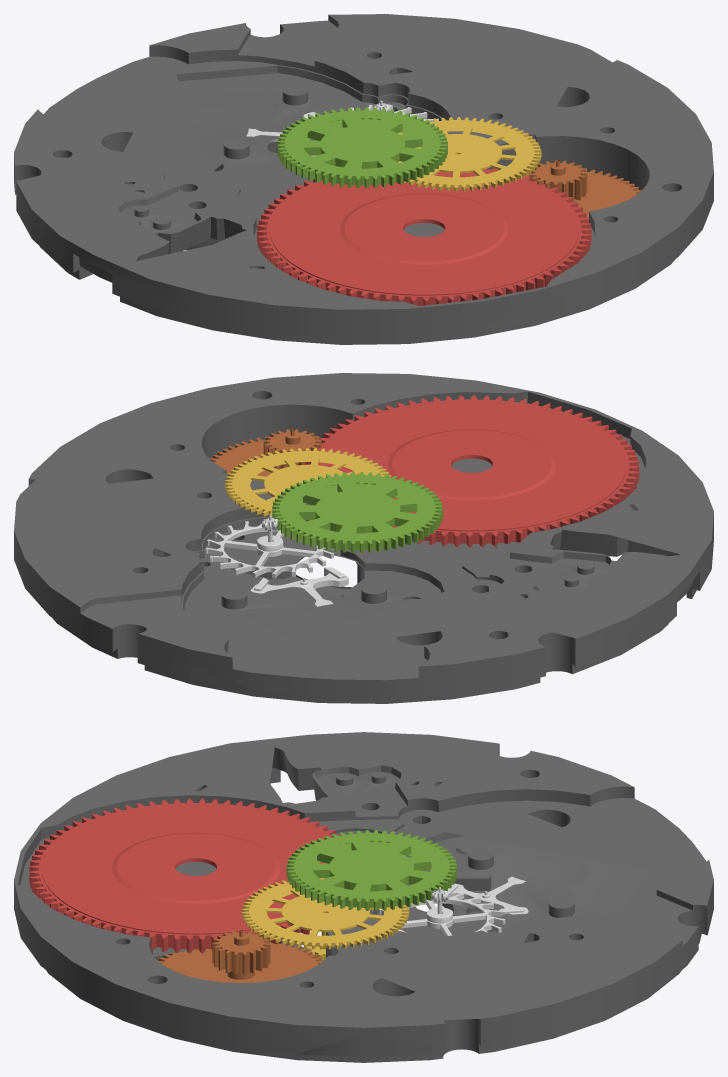
The model's file is uhrMuseum.fbx.
The picture shows the model from 3 angles, top to bottom: view 1: azimuth 30°, elevation 25°; view 2: azimuth 150°, elevation 25°; view 3: azimuth 270°, elevation 25°; orthographic projection.
Parts seen in each view (by area): view 1: MainPlate, Gear, Gear.004, Gear.006, Gear.003, Gear.005, Gear.002, Gear.001; view 2: MainPlate, Gear, Gear.004, Gear.006, Escape Wheel, Gear.003, Gear.005, Fork, Gear.001, Gear.002; view 3: MainPlate, Gear, Gear.004, Gear.006, Gear.003, Gear.002, Gear.005, Gear.001, Escape Wheel, Fork.
Part boxes in pixels (x1,y1,x2,y2): MainPlate: (14,14,713,344); Gear: (257,168,591,305); Gear.004: (277,107,447,188); Gear.006: (302,118,422,168); Gear.003: (398,117,541,191); Gear.005: (414,128,515,177); Gear.002: (522,168,641,217); Gear.001: (529,160,587,201); MainPlate: (14,373,713,703); Gear: (305,395,639,547); Gear.004: (272,472,442,552); Gear.006: (297,482,417,533); Escape Wheel: (205,515,334,578); Gear.003: (225,448,390,520); Gear.005: (250,458,360,504); Fork: (250,567,348,606); Gear.001: (263,429,321,469); Gear.002: (210,436,317,476); MainPlate: (14,732,713,1062); Gear: (29,798,345,953); Gear.004: (286,830,456,910); Gear.006: (312,841,431,891); Gear.003: (242,878,409,949); Gear.002: (159,941,322,982); Gear.005: (266,889,382,960); Gear.001: (212,930,270,979); Escape Wheel: (377,887,505,935); Fork: (447,876,528,914).
Size of the model in its own units: 60 by 8.18 by 60.
